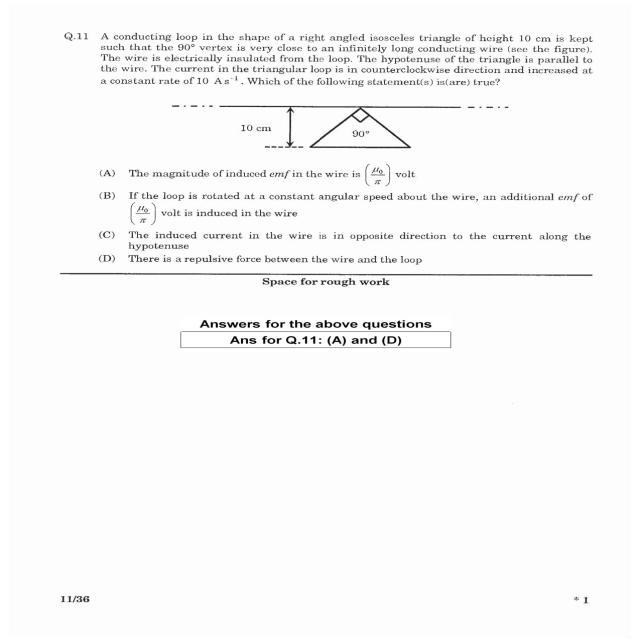Answer_Block: (23, 162, 619, 276)
Description: (23, 308, 619, 366)
Question_Answer_Block: (23, 8, 619, 276)
Question_Block: (23, 8, 619, 164)
Question_Paper_Area: (23, 8, 619, 563)
